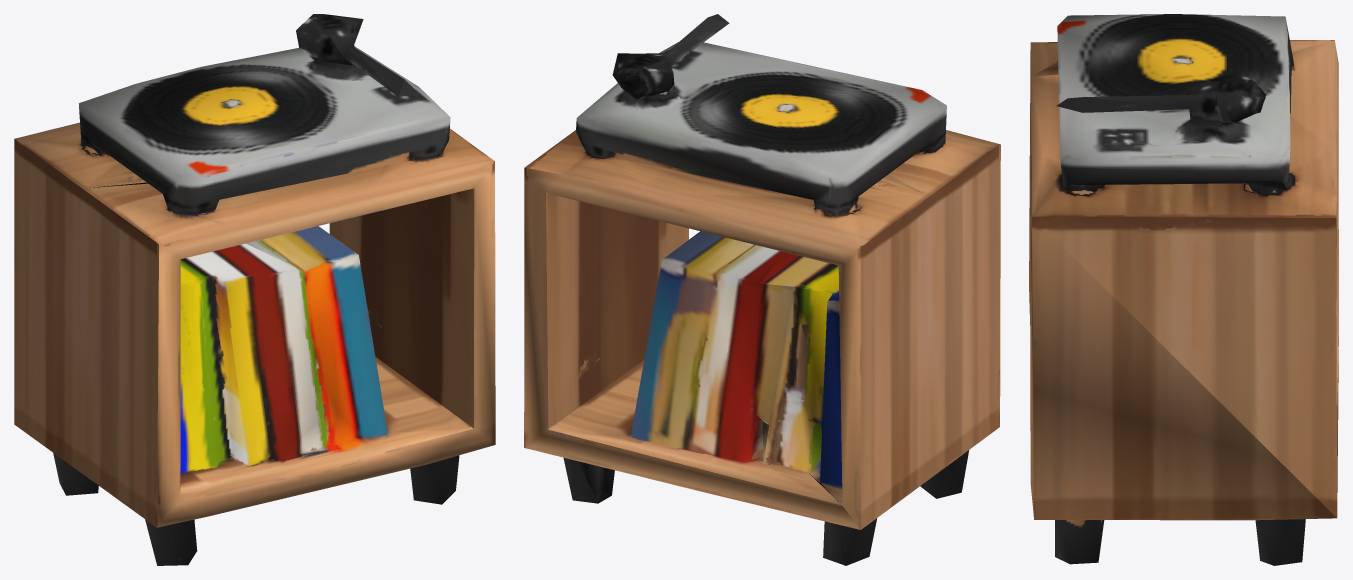
The model's file is record-cabinet.glb.
3 renders of one model, left to right at view 1: azimuth 30°, elevation 25°; view 2: azimuth 150°, elevation 25°; view 3: azimuth 270°, elevation 25°, orthographic. The views are drawn at different scales.
Parts seen in each view (by area): view 1: geometry_0.001; view 2: geometry_0.001; view 3: geometry_0.001.
Boxes of the visible parts, x1=… form: geometry_0.001: x1=14, y1=14, x2=495, y2=565; geometry_0.001: x1=524, y1=14, x2=1000, y2=565; geometry_0.001: x1=1029, y1=14, x2=1338, y2=565.
Bounding box in the file's own units: 0.8187 × 0.996 × 0.6084.
1 material, 1 textured.
